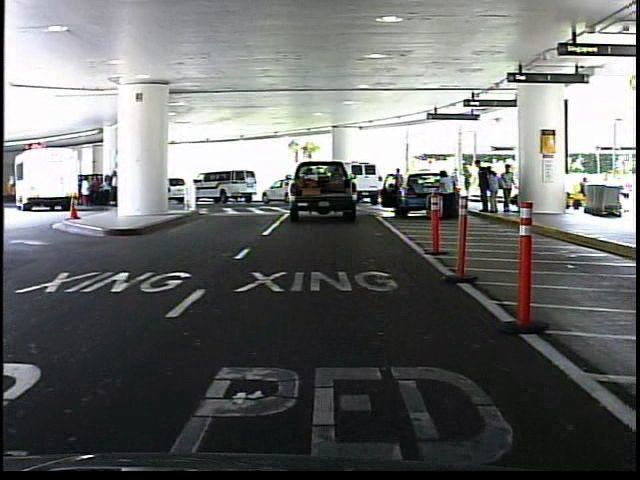person: (499, 160, 520, 217), (435, 163, 457, 217), (390, 165, 406, 204)
